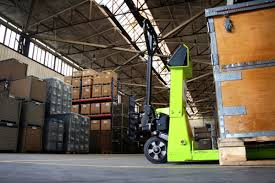Pallet Jack: (141, 18, 275, 168)
